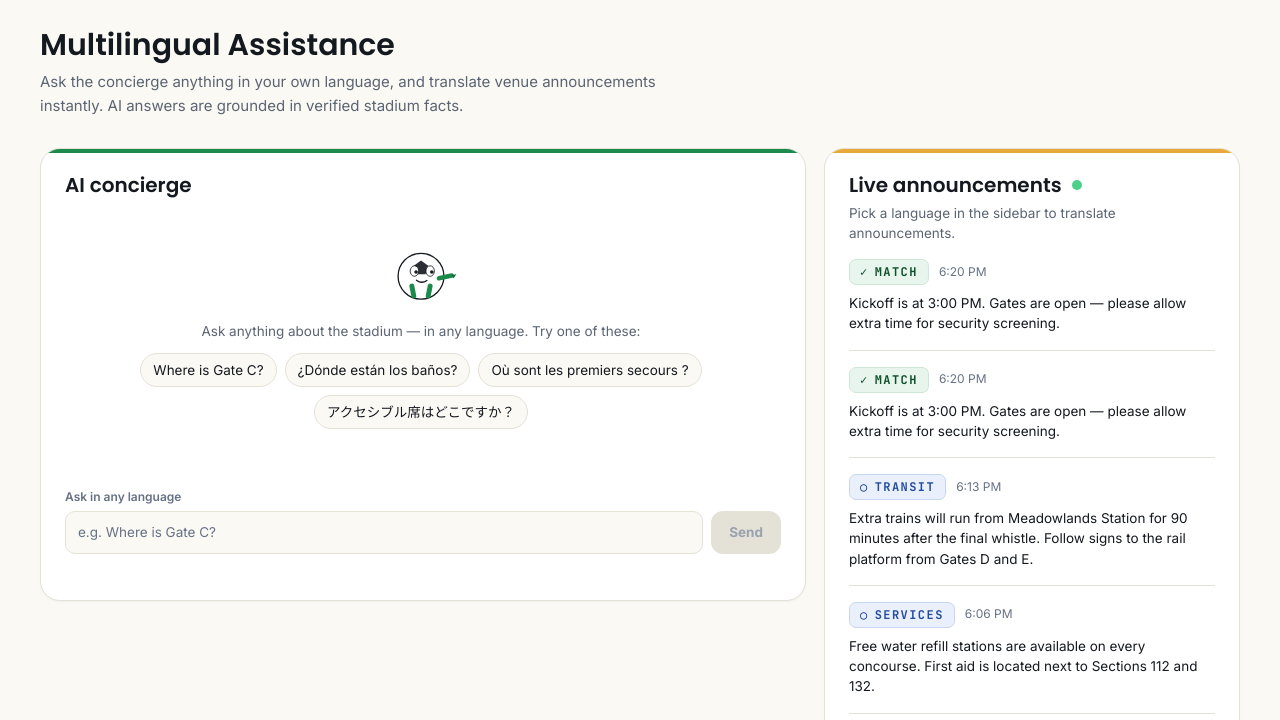
Test: MultilingualAssistanceScreen — concierge send flow › shows the Demo data badge when the reply came from the mock fallback
Type "Where is Gate C?" into the field labelled "Ask in any language".
click(384, 532); type("Where is Gate C?")  # box [65,511,703,554]
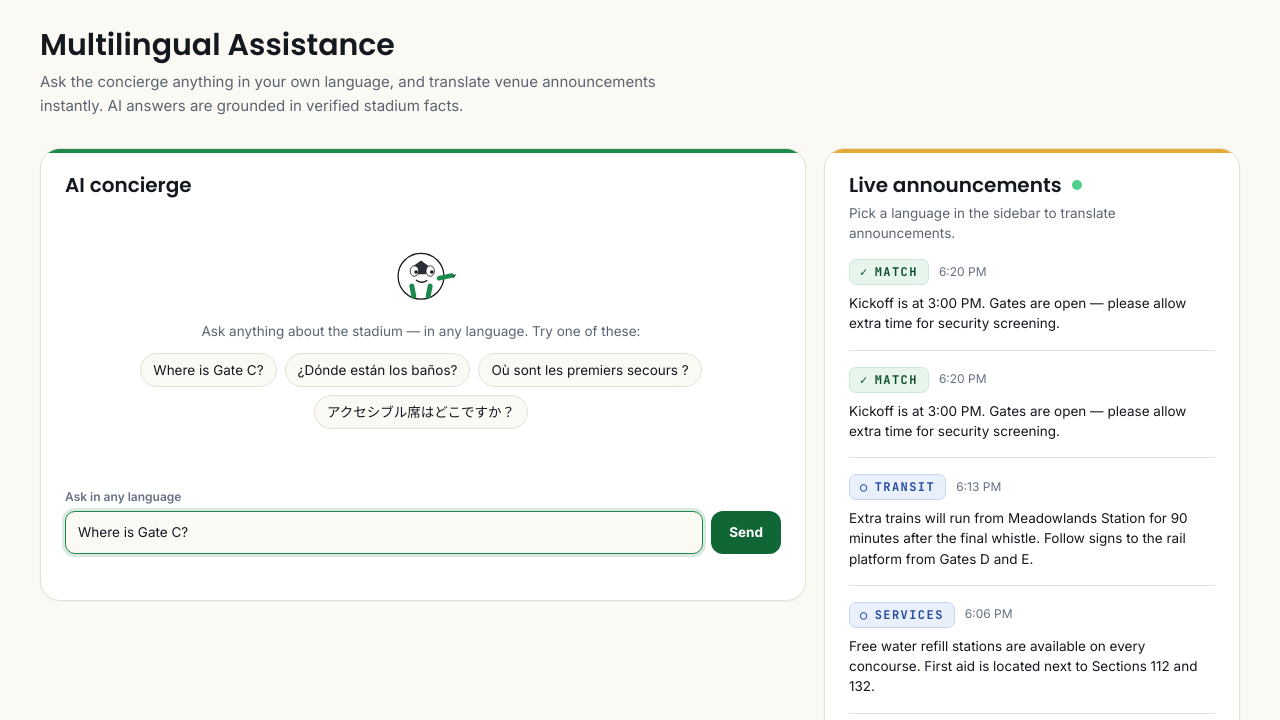
Click the button "Send".
click(746, 532)  # box [711,511,781,554]
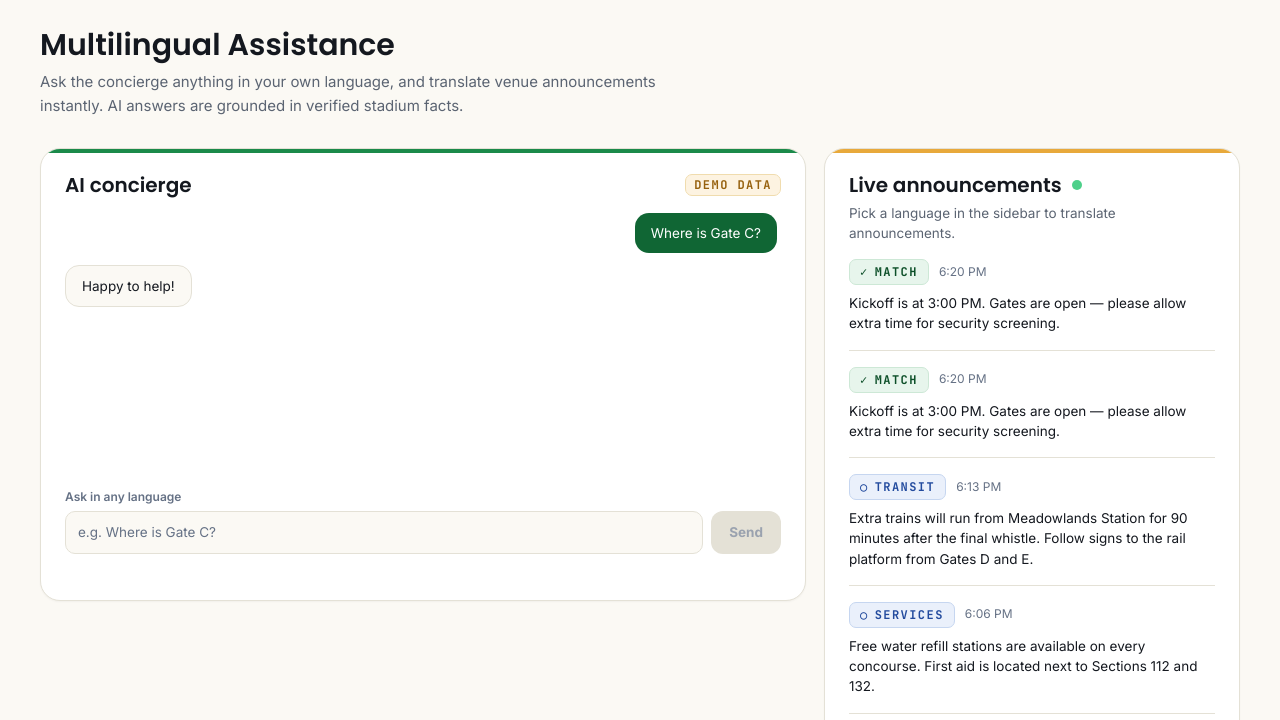
expect the text "Happy to help!" is shown: met, box [82,276,175,296]
expect the text "Demo data" is shown: met, box [685,174,781,196]
